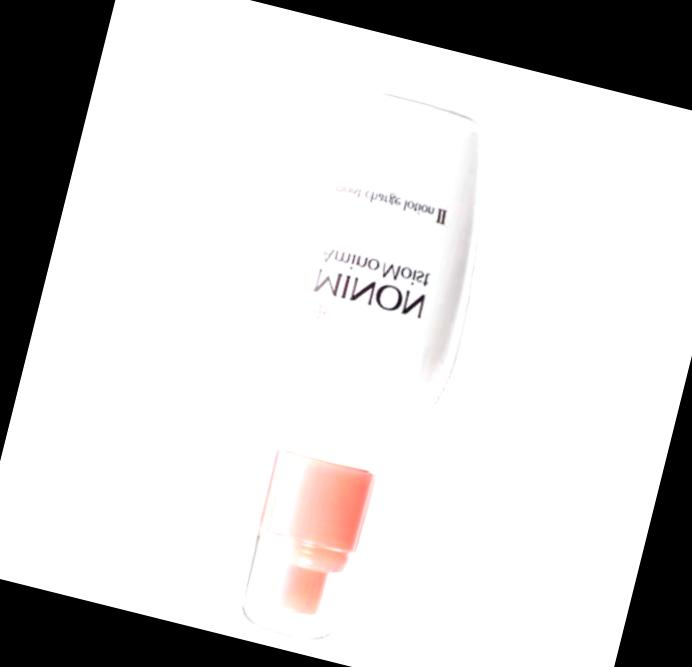cosmetic: (183, 73, 517, 664)
